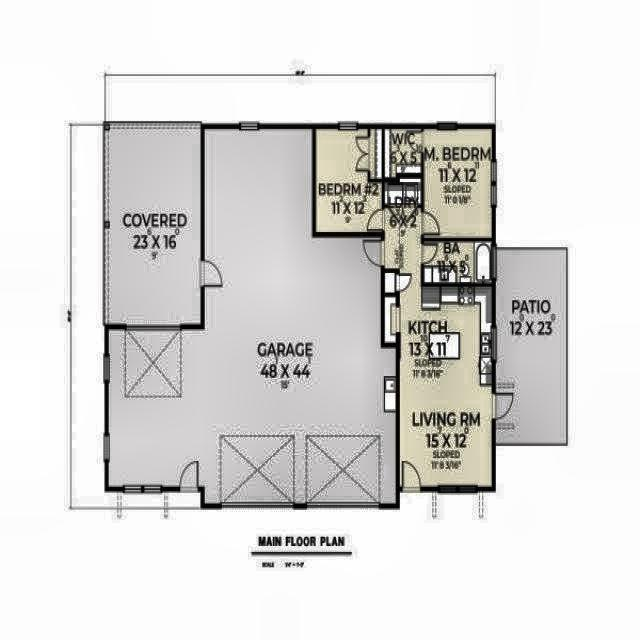room: (109, 129, 396, 504), (385, 183, 492, 487), (106, 124, 200, 323), (497, 251, 566, 443), (425, 129, 492, 238), (316, 128, 382, 232), (425, 242, 491, 282), (385, 129, 421, 173)
